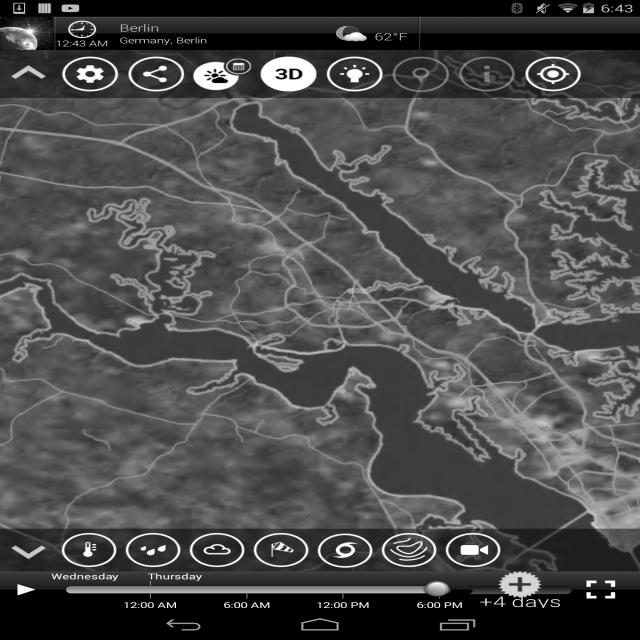ImageButton: (468, 571, 572, 608), (57, 53, 123, 95), (124, 53, 190, 95), (190, 53, 256, 95), (256, 53, 322, 95), (322, 53, 388, 95), (388, 53, 454, 95), (454, 53, 520, 95), (520, 53, 586, 95), (57, 530, 121, 570), (121, 530, 185, 570), (185, 530, 249, 570), (249, 530, 313, 570), (313, 530, 377, 570), (377, 530, 441, 570), (441, 530, 505, 570), (572, 572, 630, 607), (0, 16, 53, 50), (11, 50, 46, 98), (11, 529, 46, 571), (0, 576, 49, 603)
ImageView: (321, 17, 374, 50), (54, 17, 56, 50), (418, 17, 420, 50)
SeekBar: (49, 580, 468, 599)
Spinner: (56, 17, 418, 50)
TextView: (480, 591, 561, 608), (109, 34, 207, 46), (109, 21, 159, 35), (374, 30, 408, 50), (55, 38, 108, 48)
